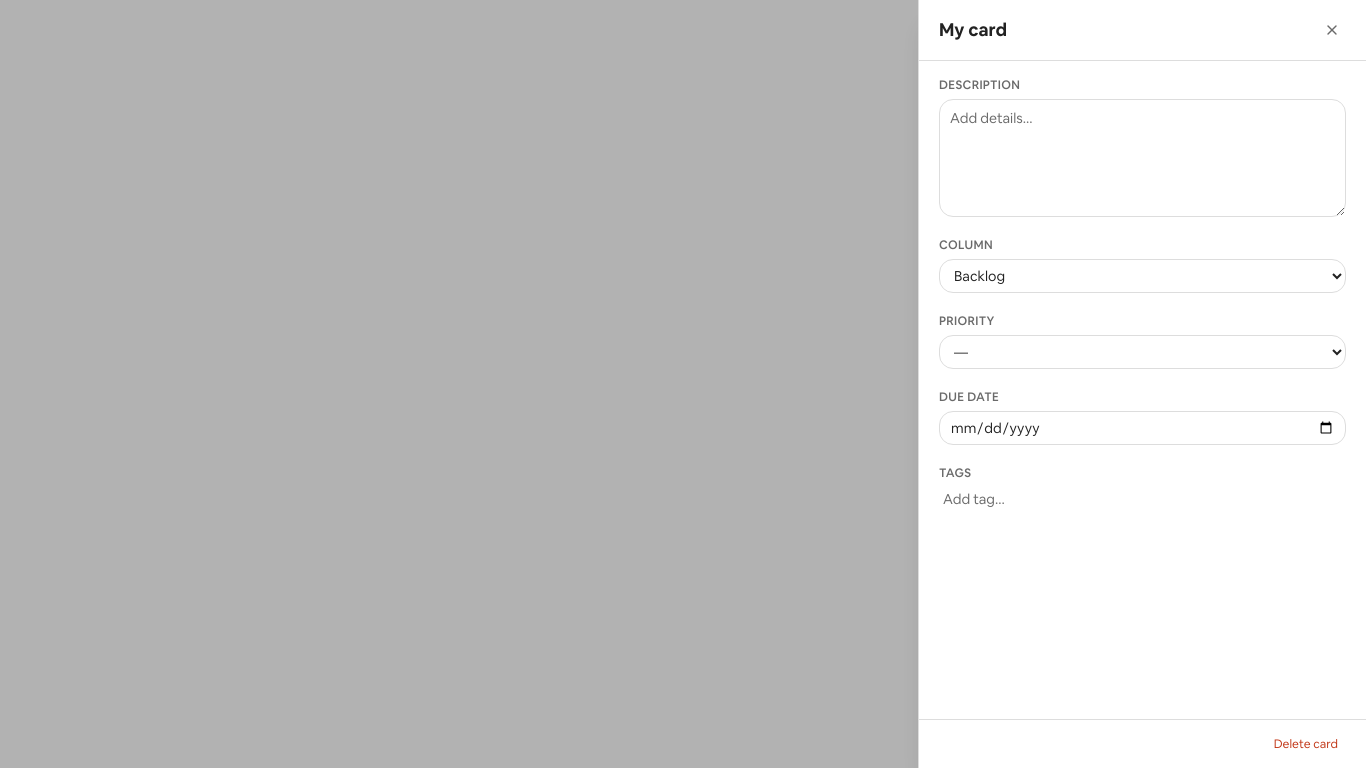
Scenario: CardDetailPane delete › shows confirm step when Delete card is clicked
Step 1. Click the button "Delete card" → (1306,744), box [1266, 732, 1346, 756]
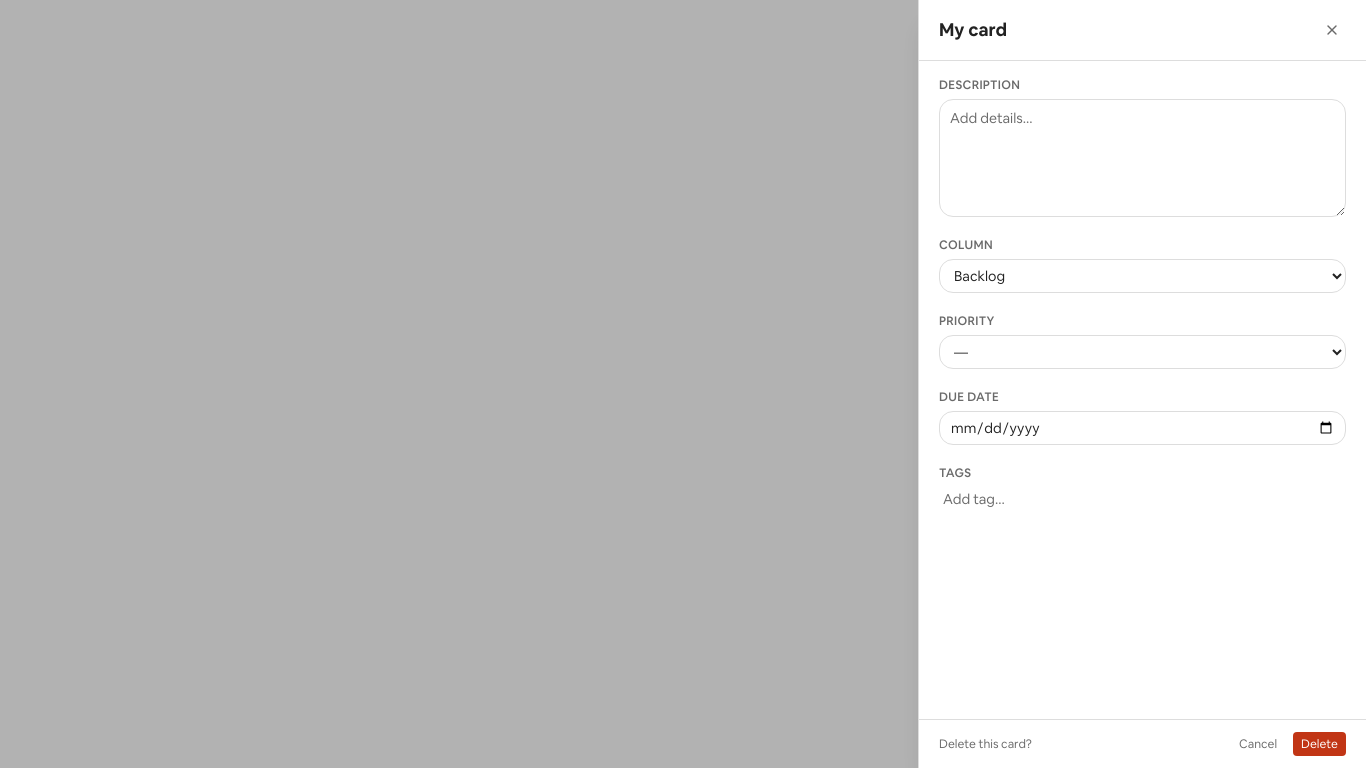
Check: the text "Delete this card?" is shown, box [939, 736, 1032, 752]
